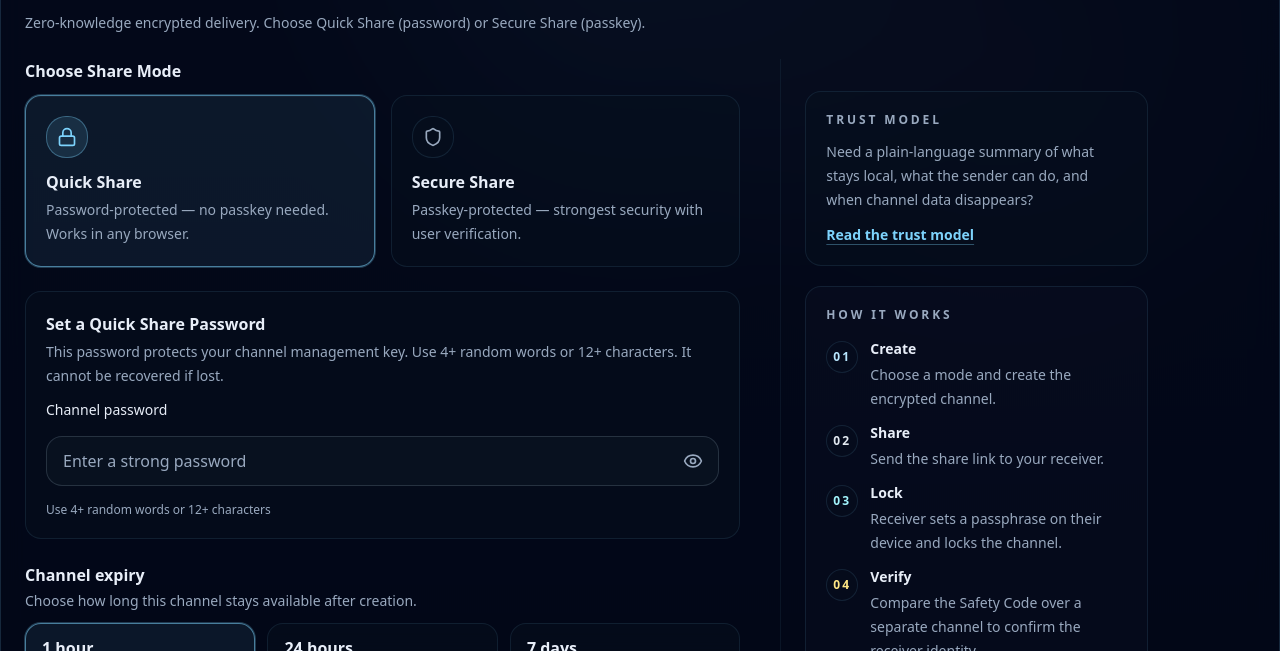
it: CreatePage integration › shows error notice when createChannel fails
Step 1. Click the button with test id "mode-card-secure" → (433, 137), box x1=391 y1=95 x2=740 y2=267
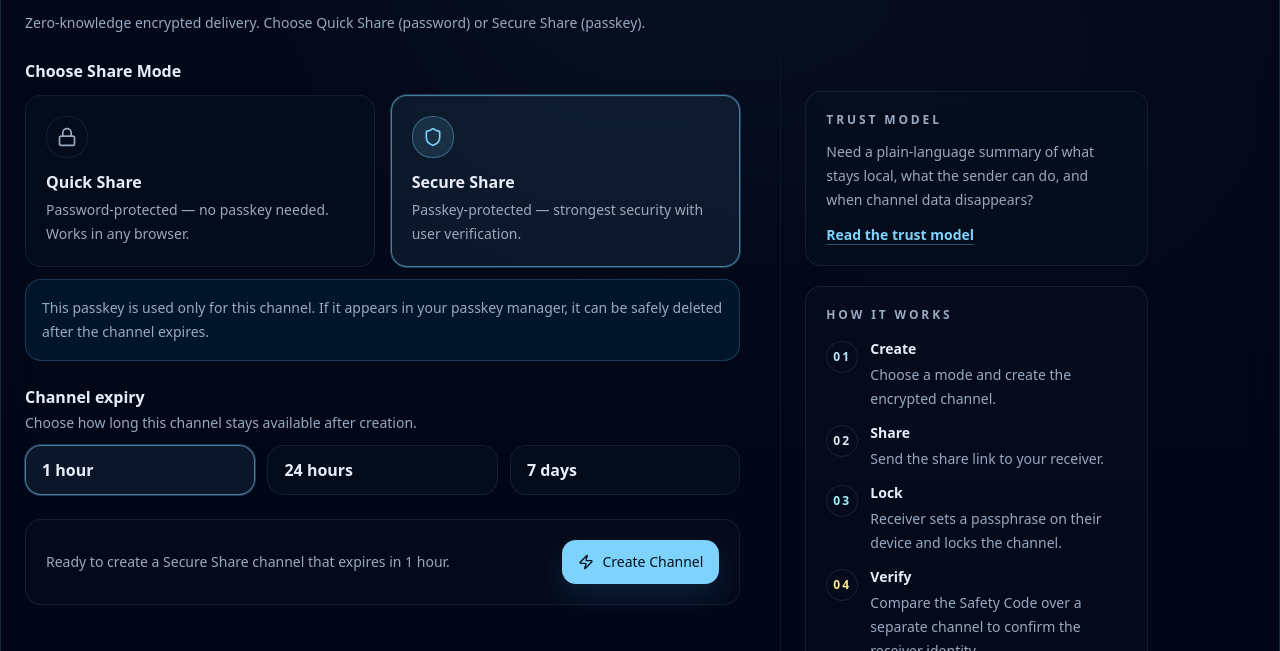
Step 2. Click the button with test id "create-submit-button" → (641, 562), box x1=562 y1=540 x2=719 y2=584
(page scrolled)
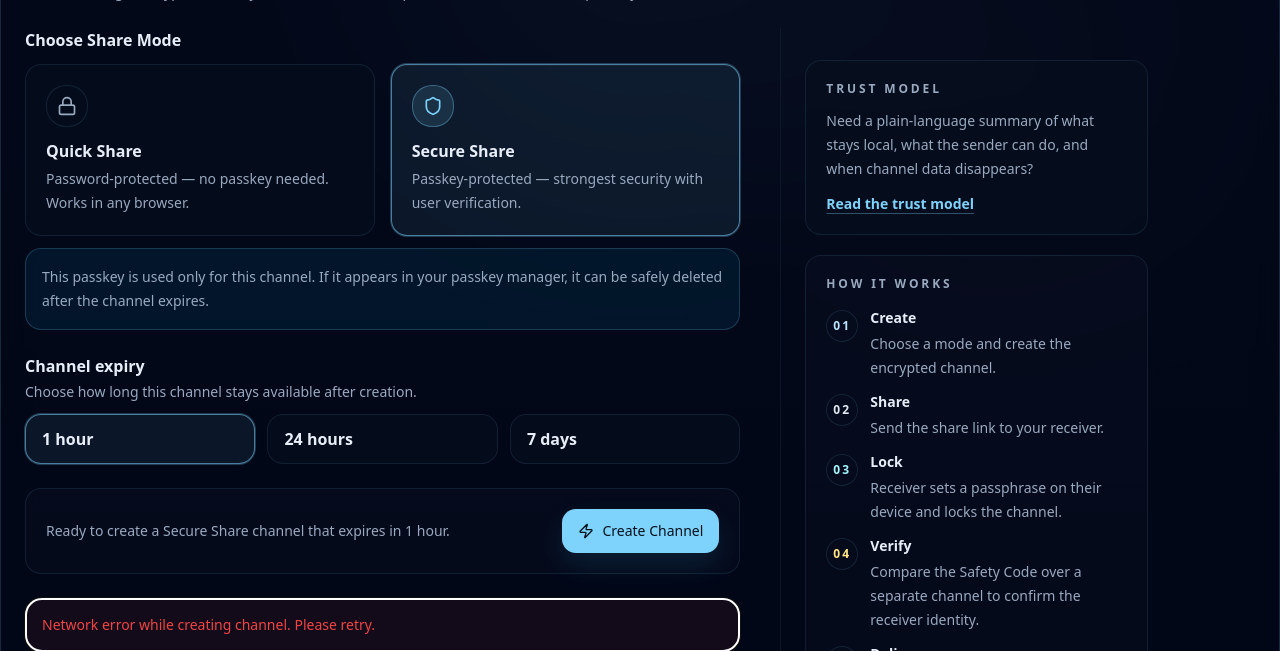
Result: the message "Network error while creating channel. Please retry." is shown at x1=25 y1=598 x2=740 y2=650
